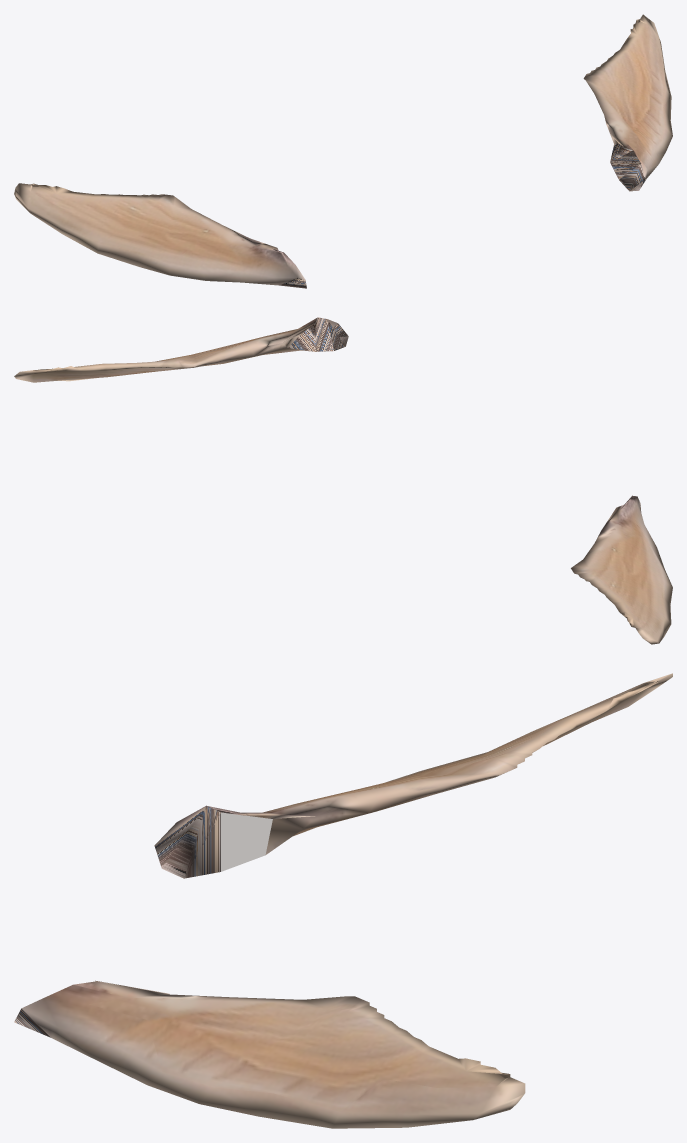
Rendered from PectoralFins.glb.
3 views of the same model, one above another, from view 1: azimuth 30°, elevation 25°; view 2: azimuth 150°, elevation 25°; view 3: azimuth 270°, elevation 25° (orthographic). The views are drawn at different scales.
Visible parts, largest first — view 1: world; view 2: world; view 3: world.
Boxes of the visible parts, x1,y1,x2,y2 form: world: (14, 14, 672, 288); world: (14, 317, 672, 644); world: (14, 673, 672, 1128).
Bounding box in the file's own units: 0.3274 × 0.0512 × 0.1737.
Materials: 1 (1 with a texture image).
